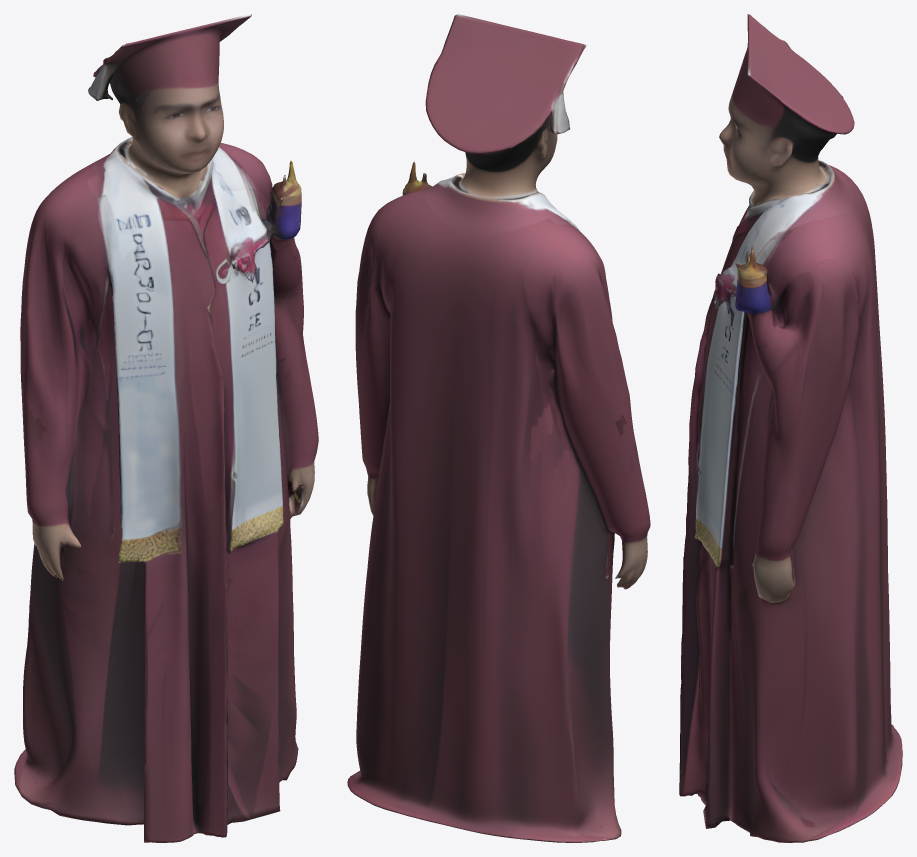
3 views of the same model, side by side, from view 1: azimuth 30°, elevation 25°; view 2: azimuth 150°, elevation 25°; view 3: azimuth 270°, elevation 25° (orthographic). The views are drawn at different scales.
Parts seen in each view (by area): view 1: Node1; view 2: Node1; view 3: Node1.
Part boxes in pixels (left/top/right/bottom): Node1: left=14, top=14, right=318, bottom=842; Node1: left=347, top=14, right=650, bottom=842; Node1: left=679, top=14, right=902, bottom=842.
Size of the model in its own units: 0.7286 by 1.9 by 0.5105.
1 material, 1 textured.
